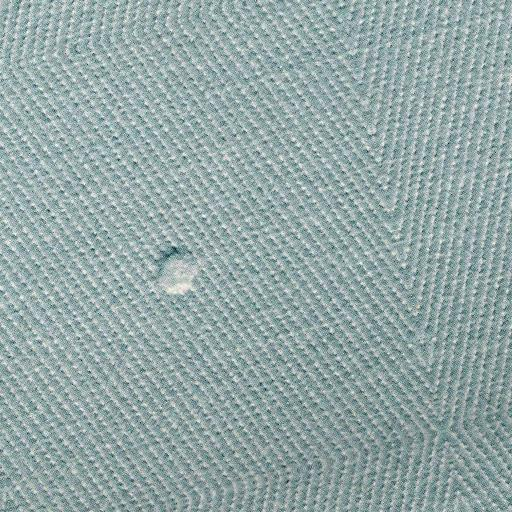knot: (146, 242, 213, 303)
